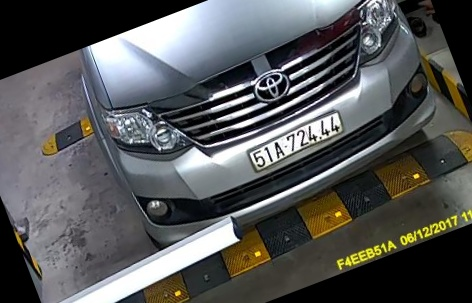plate: (247, 109, 345, 181)
